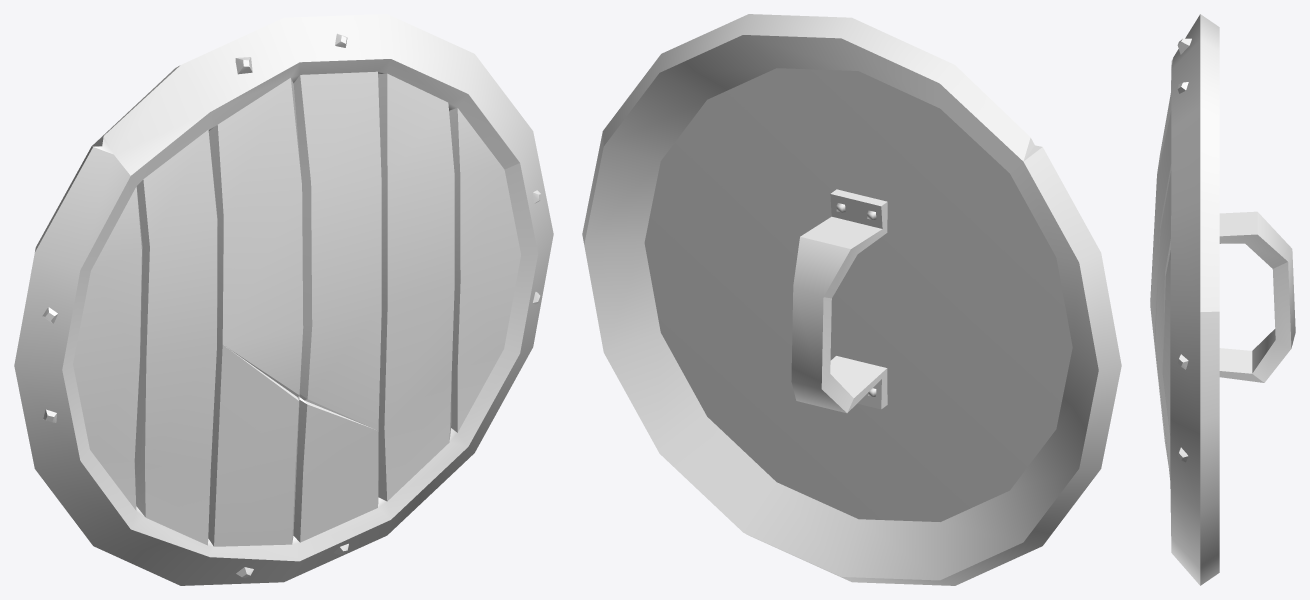
File: escudo.fbx
The picture shows the model from 3 angles, left to right: view 1: azimuth 30°, elevation 25°; view 2: azimuth 150°, elevation 25°; view 3: azimuth 270°, elevation 25°; orthographic projection. The views are drawn at different scales.
Parts seen in each view (by area): view 1: PT_Shield_01_a_body; view 2: PT_Shield_01_a_body, PT_Shield_01_a_handle; view 3: PT_Shield_01_a_body, PT_Shield_01_a_handle.
Boxes of the visible parts, x1,y1,x2,y2 form: PT_Shield_01_a_body: (14, 14, 553, 585); PT_Shield_01_a_body: (582, 14, 1121, 585); PT_Shield_01_a_handle: (791, 189, 887, 413); PT_Shield_01_a_body: (1150, 14, 1219, 585); PT_Shield_01_a_handle: (1219, 211, 1295, 382).
Size of the model in its own units: 54.55 by 54.55 by 13.84.
